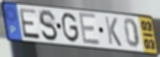0: (123, 17, 141, 50)
E: (77, 12, 102, 47), (18, 8, 42, 41)
G: (61, 12, 81, 44)
K: (104, 16, 123, 48)
S: (37, 9, 59, 43)
